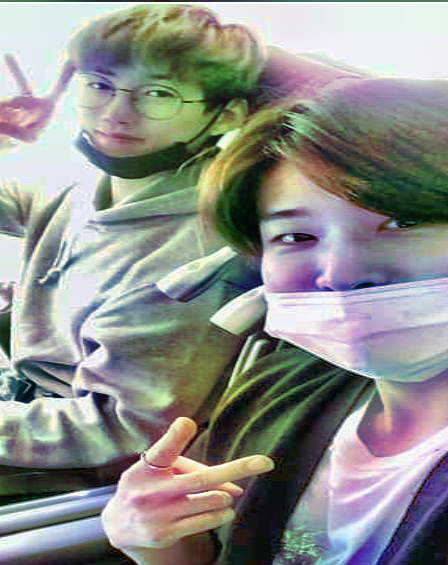mask_weared_incorrect: (228, 79, 448, 386), (59, 5, 260, 180)
